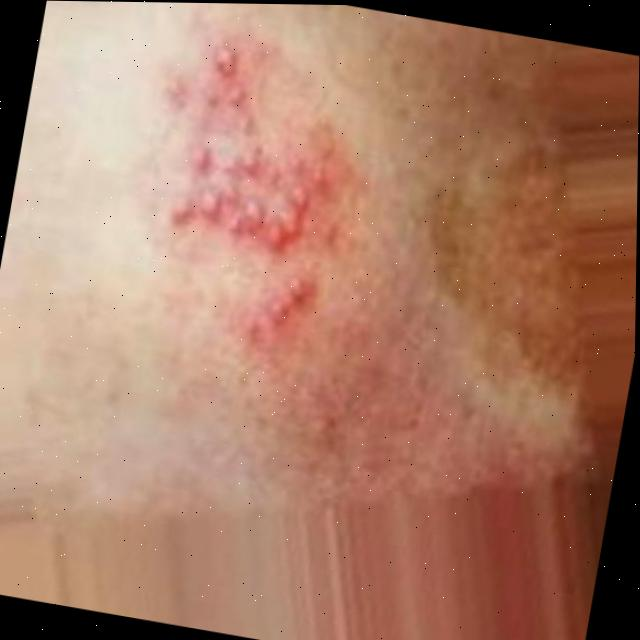Shingles: (150, 39, 362, 336)
